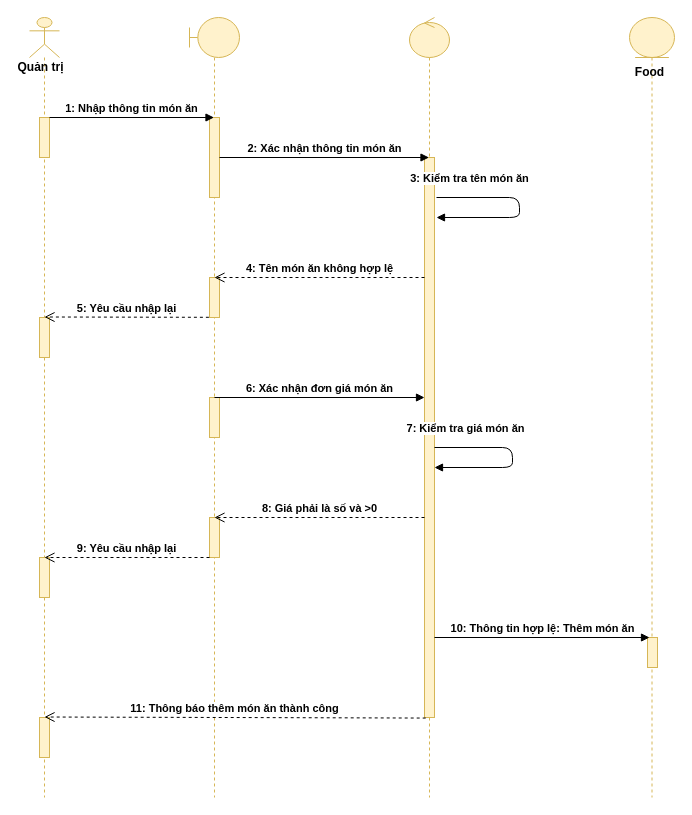
Some shapes in this 692 by 815 pixel diagram are drawn without their labels. The shapes that lost their labels are listed below. From the top down, each one's centre as x and y in pixels, then its label:
At (x=214, y=407): "Giao diện quản lý món ăn".
At (x=429, y=407): "Class xử lý thêm món ăn".
